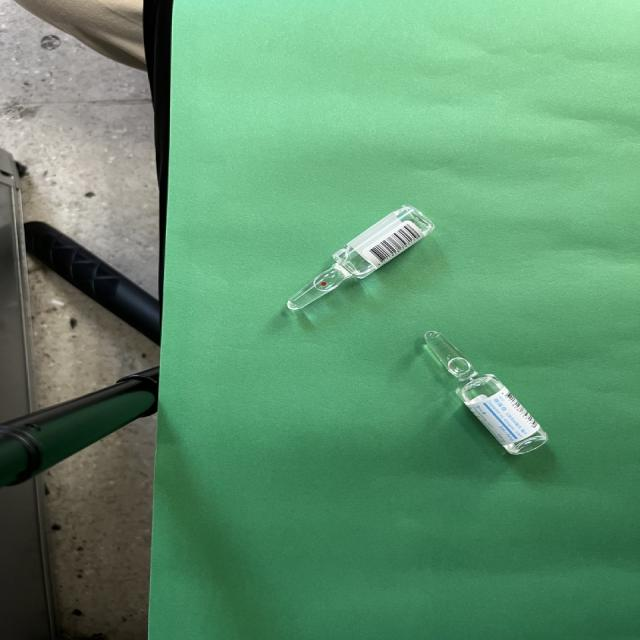Ampoules: (424, 331, 547, 455), (287, 206, 433, 310)
